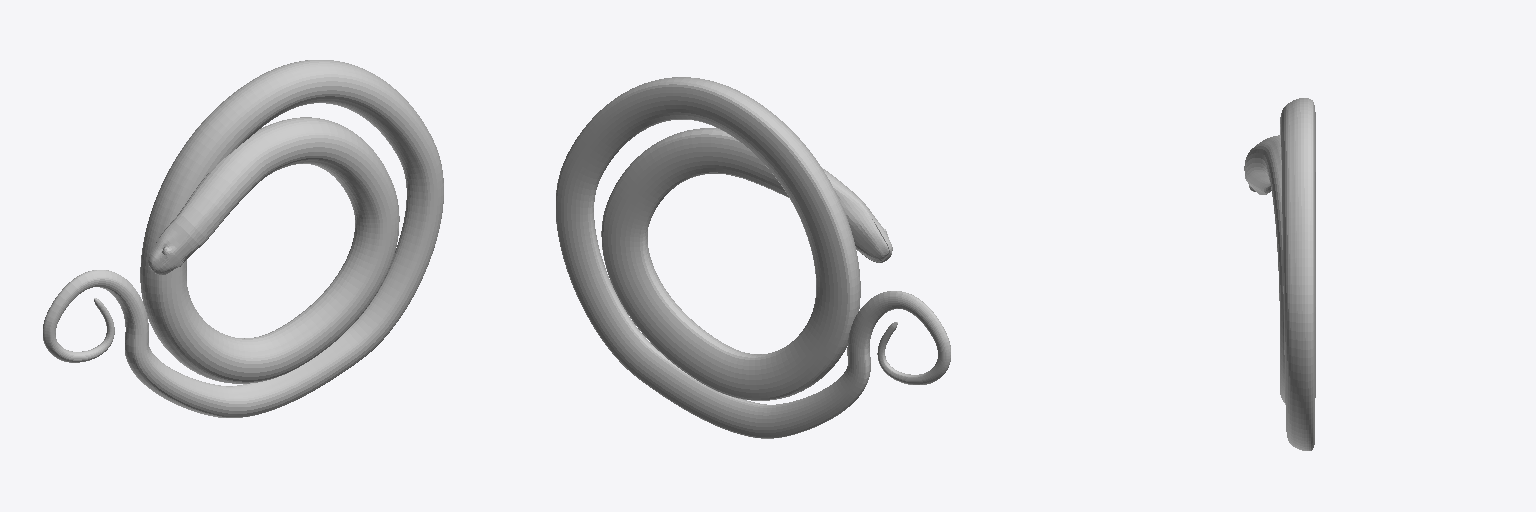
The model's file is 13107_Mud_Snake_v1_l2.obj.
3 renders of one model, left to right at view 1: azimuth 30°, elevation 25°; view 2: azimuth 150°, elevation 25°; view 3: azimuth 270°, elevation 25°, orthographic.
Parts seen in each view (by area): view 1: Mud_Snake; view 2: Mud_Snake; view 3: Mud_Snake.
Part boxes in pixels (left/top/right/bottom): Mud_Snake: left=43, top=60, right=443, bottom=417; Mud_Snake: left=556, top=77, right=950, bottom=438; Mud_Snake: left=1244, top=98, right=1315, bottom=450.
Size of the model in its own units: 16.38 by 13.47 by 2.55.